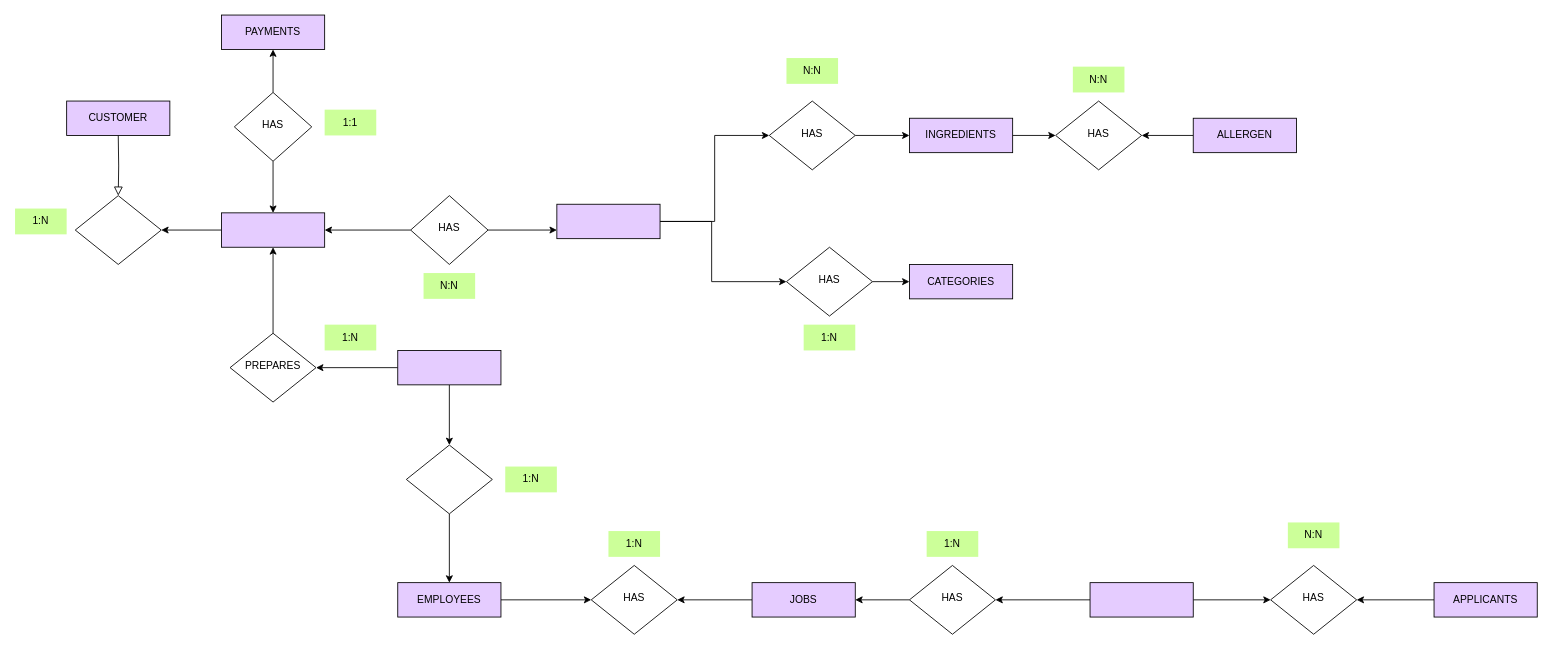
This 1552x649 diagram has some shape labels left out. Each missing label, with the box of its shape:
DOES: (74, 195, 161, 264)
JOB OFFERS: (1089, 582, 1193, 617)
ORDER: (221, 212, 325, 247)
PRODUCTS: (556, 203, 660, 239)
RESTAURANTS: (397, 350, 501, 385)
WORK: (405, 444, 492, 514)
